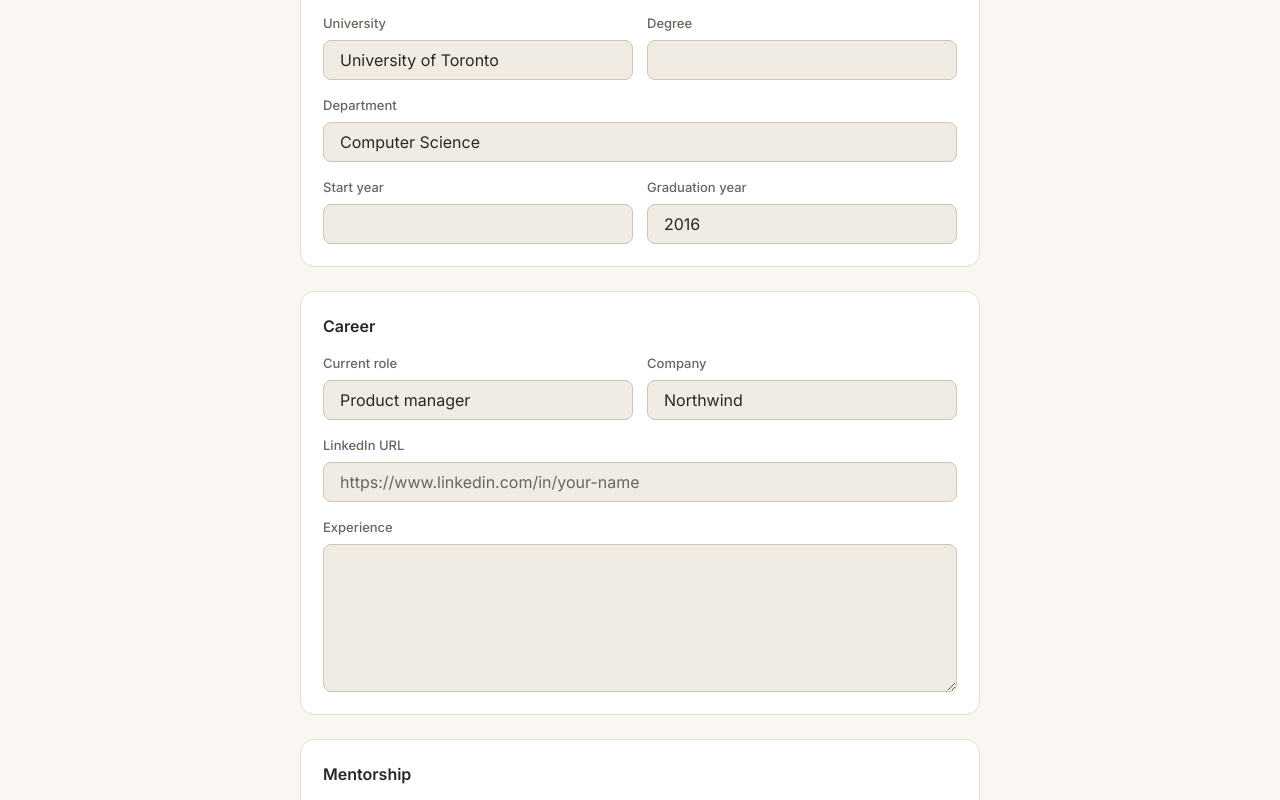
Scenario: MePage saving › logs out on a 401 during save while dirty, with no leave prompt in the way
The width and height of the screenshot is (1280, 800).
(page scrolled)
Type "x" into the field labelled "Current role" at (478, 400), box [323, 380, 633, 420]
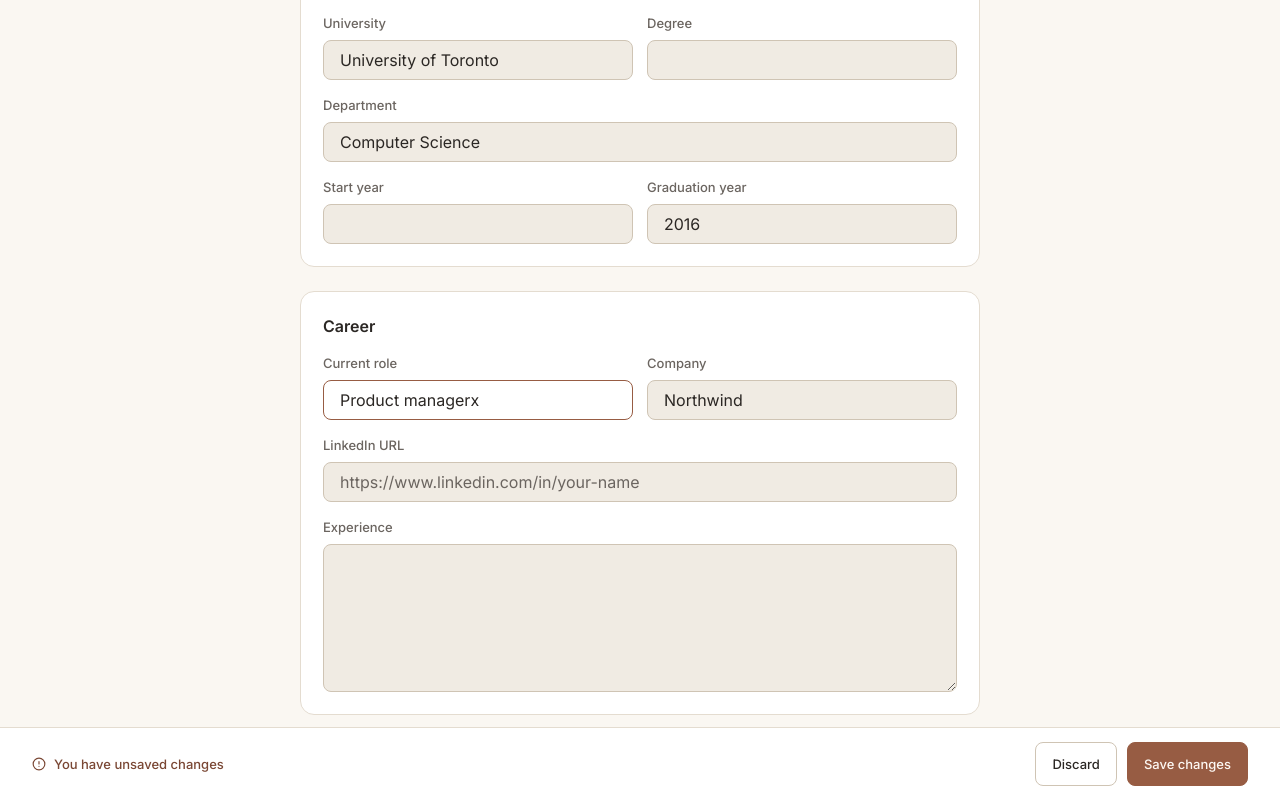
Click the button "Save changes" at (1187, 764), box [1127, 742, 1248, 786]
(page scrolled)
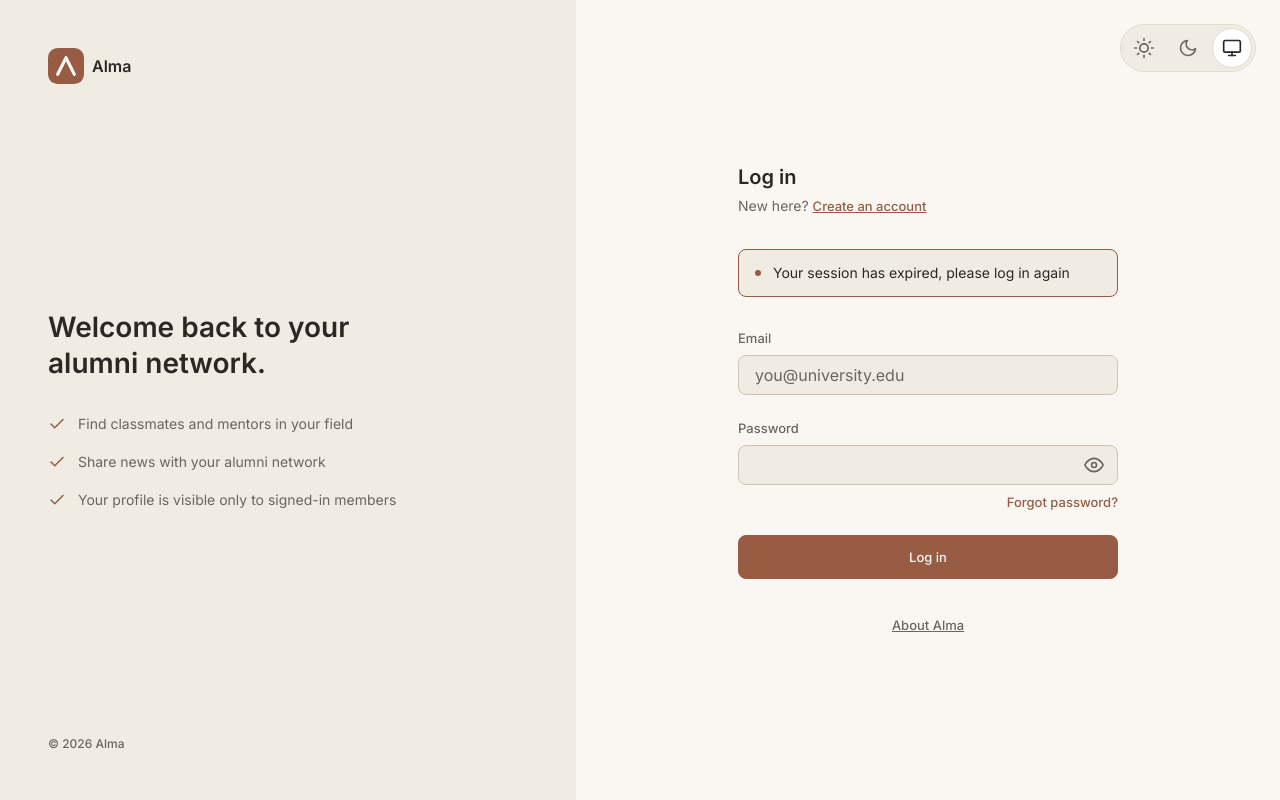
Expected: the text "Your session has expired, please log in again" is shown, [773, 262, 1070, 284]
